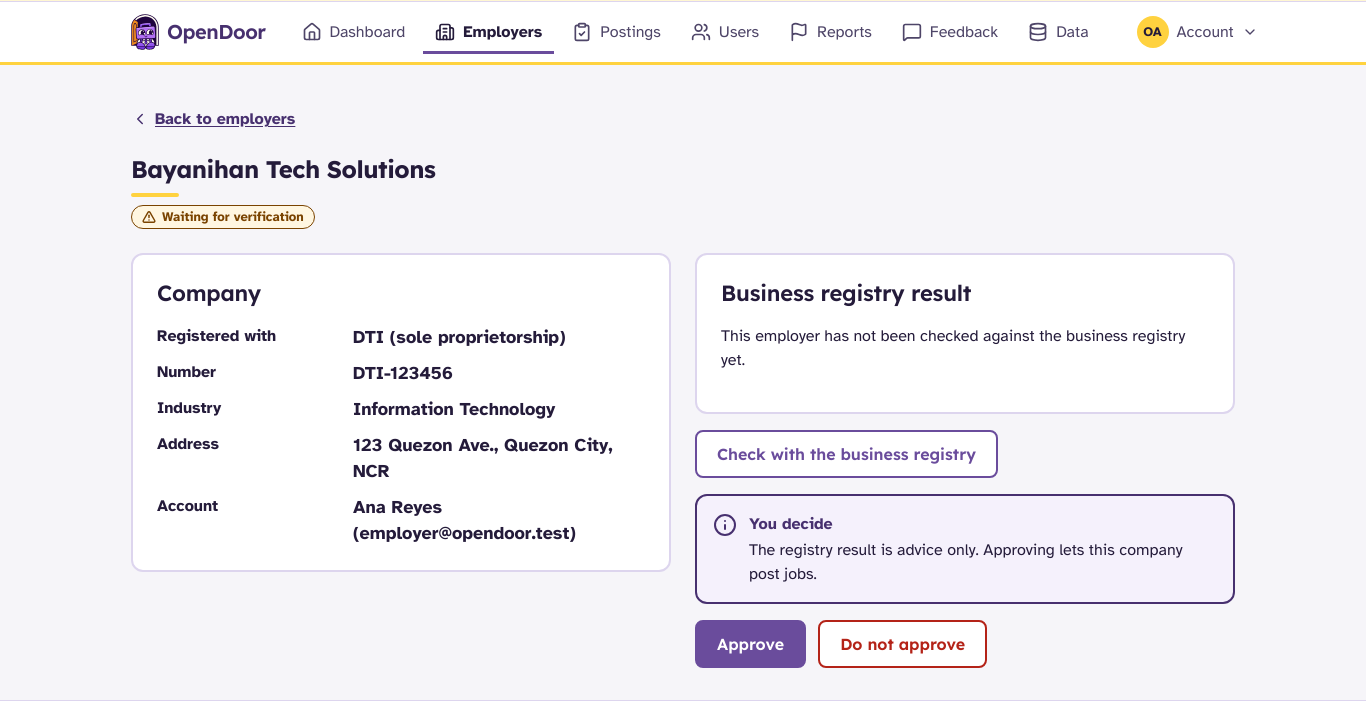
Test: AdminEmployerPage › registry outage is explained and manual decision stays possible
Click the button "Check with the business registry" at (846, 454), box [695,430,998,478]
(page scrolled)
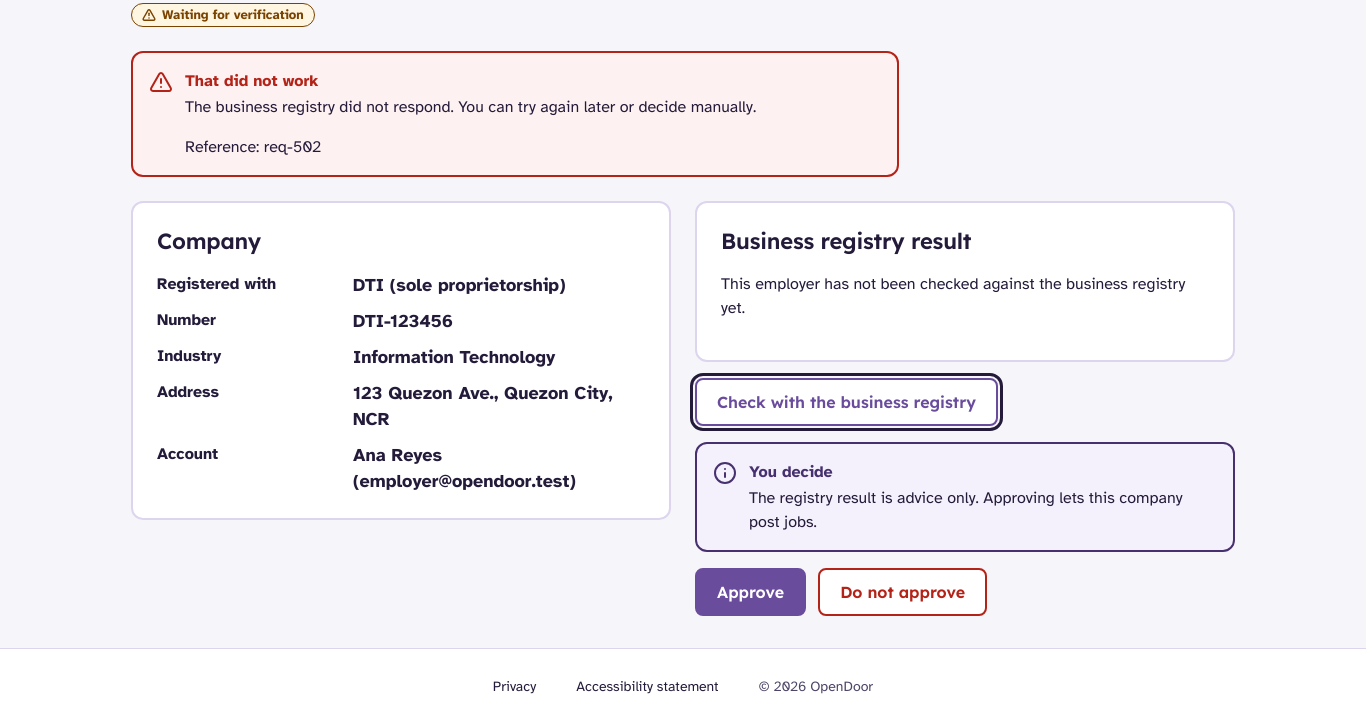
Expected: the text "did not respond. You can try again later or decide manually" is shown, [185,97,756,117]
